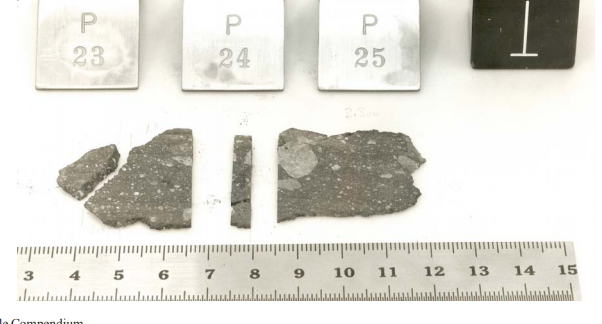Breccia: (274, 113, 438, 233), (45, 138, 219, 232), (213, 119, 263, 234), (226, 122, 262, 234)
